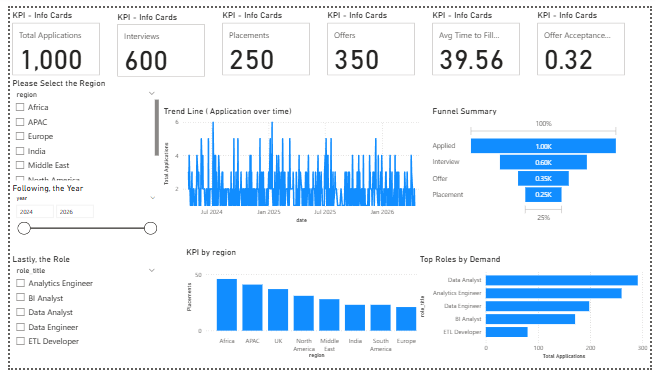

This screenshot's page, from the dashboard's own definition file:
{"tool":"powerbi","page":{"name":"Executive Overview","canvas":[1280,720],"ordinal":0},"visuals":[{"type":"cardVisual","title":"KPI - Info Cards","fields":{"Data":["KPI_Measures.Total Applications"]},"box":[0,0,185,140],"z":0},{"type":"cardVisual","title":"KPI - Info Cards","fields":{"Data":["KPI_Measures.Interviews"]},"box":[209.9,1.9,185,140],"z":1000},{"type":"cardVisual","title":"KPI - Info Cards","fields":{"Data":["KPI_Measures.Offers"]},"box":[629.6,0,185,140],"z":2000},{"type":"cardVisual","title":"KPI - Info Cards","fields":{"Data":["KPI_Measures.Placements"]},"box":[419.7,0,185,140],"z":3000},{"type":"cardVisual","title":"KPI - Info Cards","fields":{"Data":["KPI_Measures.Avg Time to Fill (Days)"]},"box":[839.5,0,185,140],"z":4000},{"type":"cardVisual","title":"KPI - Info Cards","fields":{"Data":["KPI_Measures.Offer Acceptance Rate"]},"box":[1049.3,0,185,140],"z":5000},{"type":"lineChart","title":"Trend Line ( Application over time)","fields":{"Category":["dates.date"],"Y":["KPI_Measures.Total Applications"]},"box":[302.5,194.7,537,240.1],"z":6000},{"type":"funnel","title":"Funnel Summary ","fields":{"Category":["FunnelStage.Stage"],"Y":["FunnelStage.Funnel Value"]},"box":[839.5,194.7,381.9,240.1],"z":7000},{"type":"clusteredColumnChart","title":"KPI by region","fields":{"Category":["candidates.region"],"Y":["KPI_Measures.Placements"]},"box":[347.9,478.3,491.6,228.8],"z":8000},{"type":"slicer","title":"Following, the Year ","fields":{"Values":["dates.year"]},"box":[0,349.8,302.5,128.6],"z":9000},{"type":"slicer","title":"Please Select the Region","fields":{"Values":["clients.region"]},"box":[0,139.9,302.5,209.9],"z":10000},{"type":"slicer","title":"Lastly, the Role","fields":{"Values":["roles.role_title"]},"box":[0,491.6,302.5,228.8],"z":11000},{"type":"clusteredBarChart","title":"Top Roles by Demand","fields":{"Category":["roles.role_title"],"Y":["KPI_Measures.Total Applications"]},"box":[814.9,491.6,465.1,215.5],"z":12000}]}

Visuals, with their boxes in screenshot pixels (x1, y1, x2, y2), scaled from the page's 1280x720 canvas onto the 655x374 screenshot:
"KPI - Info Cards" cardVisual: 0/0/95/73
"KPI - Info Cards" cardVisual: 107/1/202/74
"KPI - Info Cards" cardVisual: 322/0/417/73
"KPI - Info Cards" cardVisual: 215/0/309/73
"KPI - Info Cards" cardVisual: 430/0/524/73
"KPI - Info Cards" cardVisual: 537/0/632/73
"Trend Line ( Application over time)" lineChart: 155/101/430/226
"Funnel Summary " funnel: 430/101/625/226
"KPI by region" clusteredColumnChart: 178/248/430/367
"Following, the Year " slicer: 0/182/155/249
"Please Select the Region" slicer: 0/73/155/182
"Lastly, the Role" slicer: 0/255/155/373
"Top Roles by Demand" clusteredBarChart: 417/255/654/367
